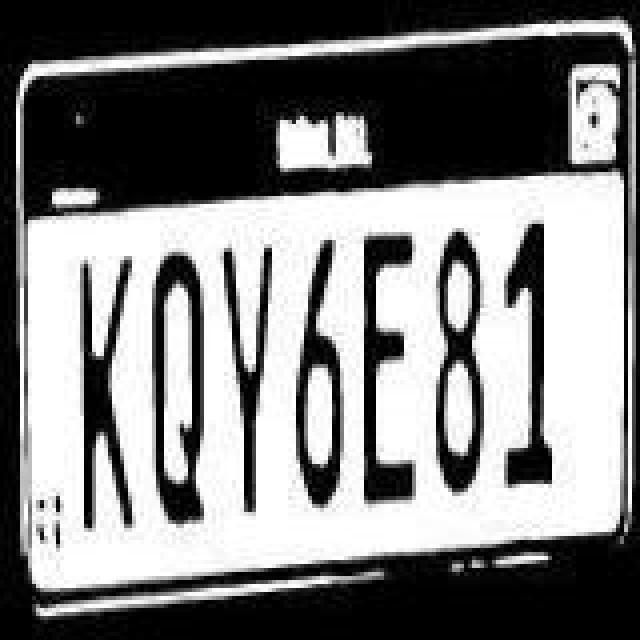1: (498, 212, 558, 504)
6: (290, 226, 350, 518)
8: (430, 218, 490, 506)
E: (356, 218, 420, 510)
K: (72, 246, 136, 534)
Q: (142, 238, 210, 534)
Y: (216, 230, 280, 518)
